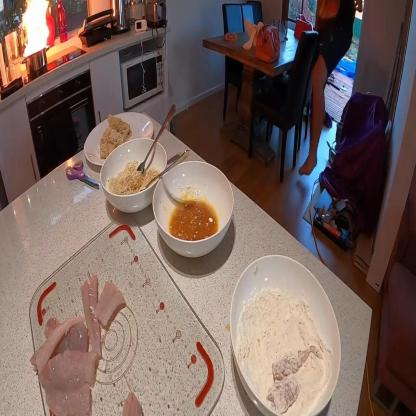fire: (19, 0, 52, 58)
